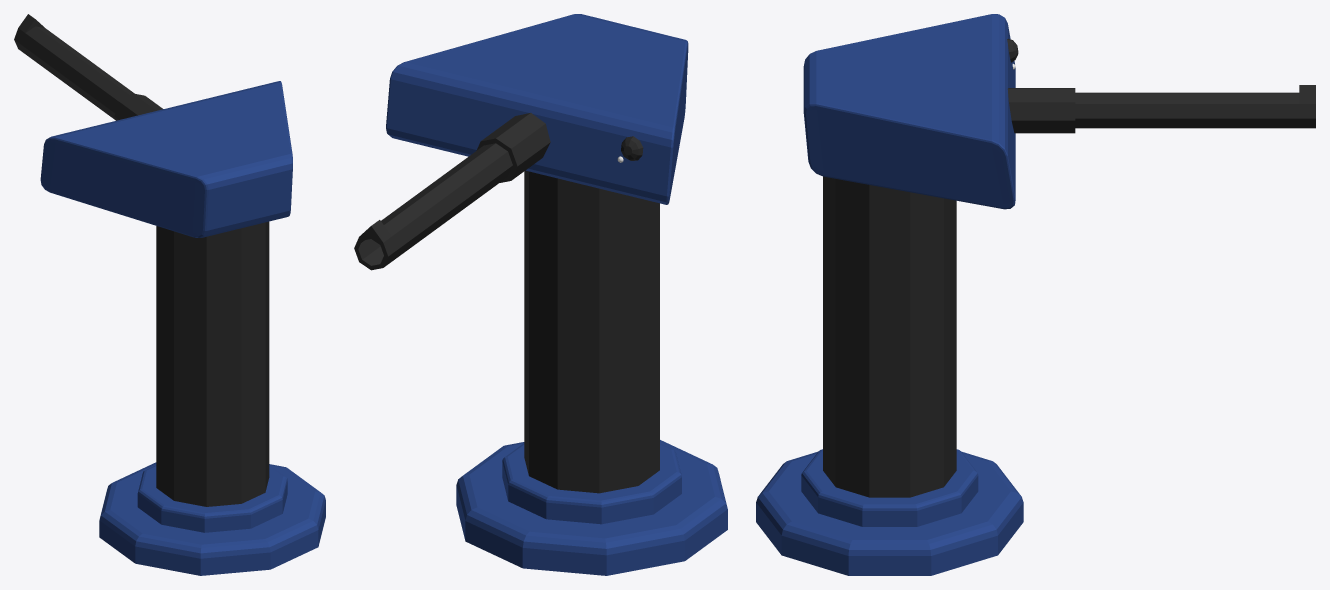
File: singleTurret.fbx
3 views of the same model, side by side, from view 1: azimuth 30°, elevation 25°; view 2: azimuth 150°, elevation 25°; view 3: azimuth 270°, elevation 25° (orthographic). The views are drawn at different scales.
Parts seen in each view (by area): view 1: FirstTurret; view 2: FirstTurret; view 3: FirstTurret.
Boxes of the visible parts, bbox=[...] form: FirstTurret: bbox=[14, 14, 325, 575]; FirstTurret: bbox=[354, 14, 727, 575]; FirstTurret: bbox=[756, 14, 1315, 575].
Bounding box in the file's own units: 44.16 × 68.96 × 78.54.
